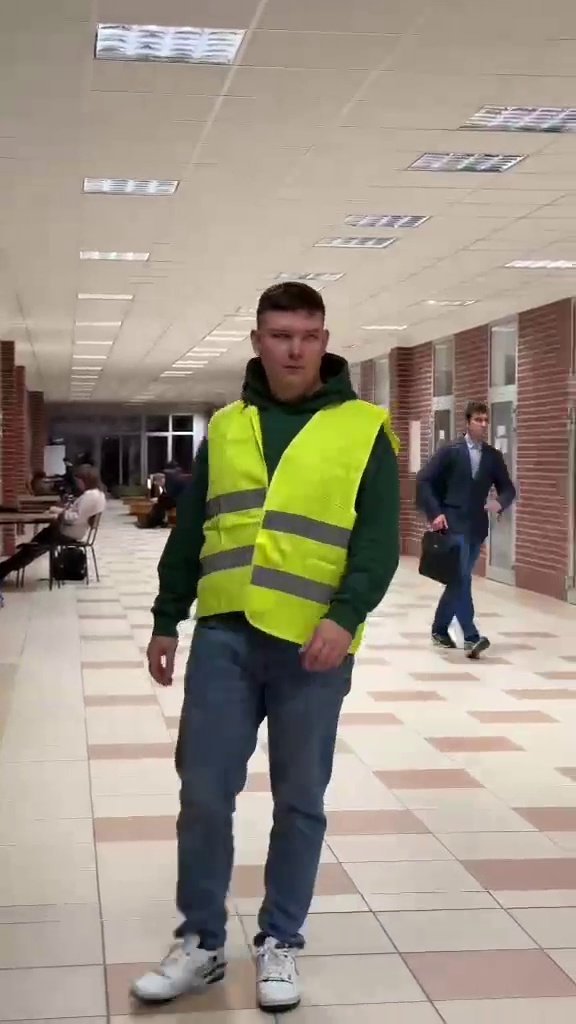no vest: (419, 385, 518, 669), (2, 464, 108, 579)
vest: (146, 277, 396, 1024)
